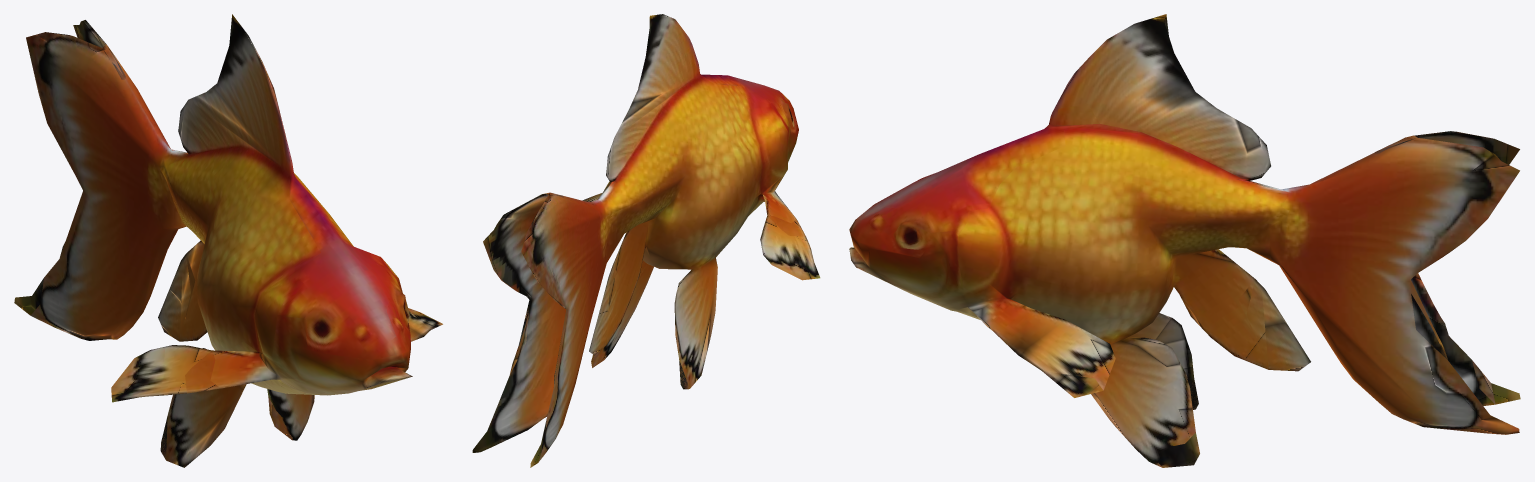
The model's file is goldfish-comet_lo.glb.
3 views of the same model, side by side, from view 1: azimuth 30°, elevation 25°; view 2: azimuth 150°, elevation 25°; view 3: azimuth 270°, elevation 25° (orthographic). The views are drawn at different scales.
Visible parts, largest first — view 1: geometry_0; view 2: geometry_0; view 3: geometry_0.
Boxes of the visible parts, bbox=[...] form: geometry_0: bbox=[14, 14, 442, 467]; geometry_0: bbox=[472, 14, 820, 467]; geometry_0: bbox=[849, 14, 1520, 467].
Size of the model in its own units: 0.5492 by 0.7004 by 0.9993.
1 material, 1 textured.
